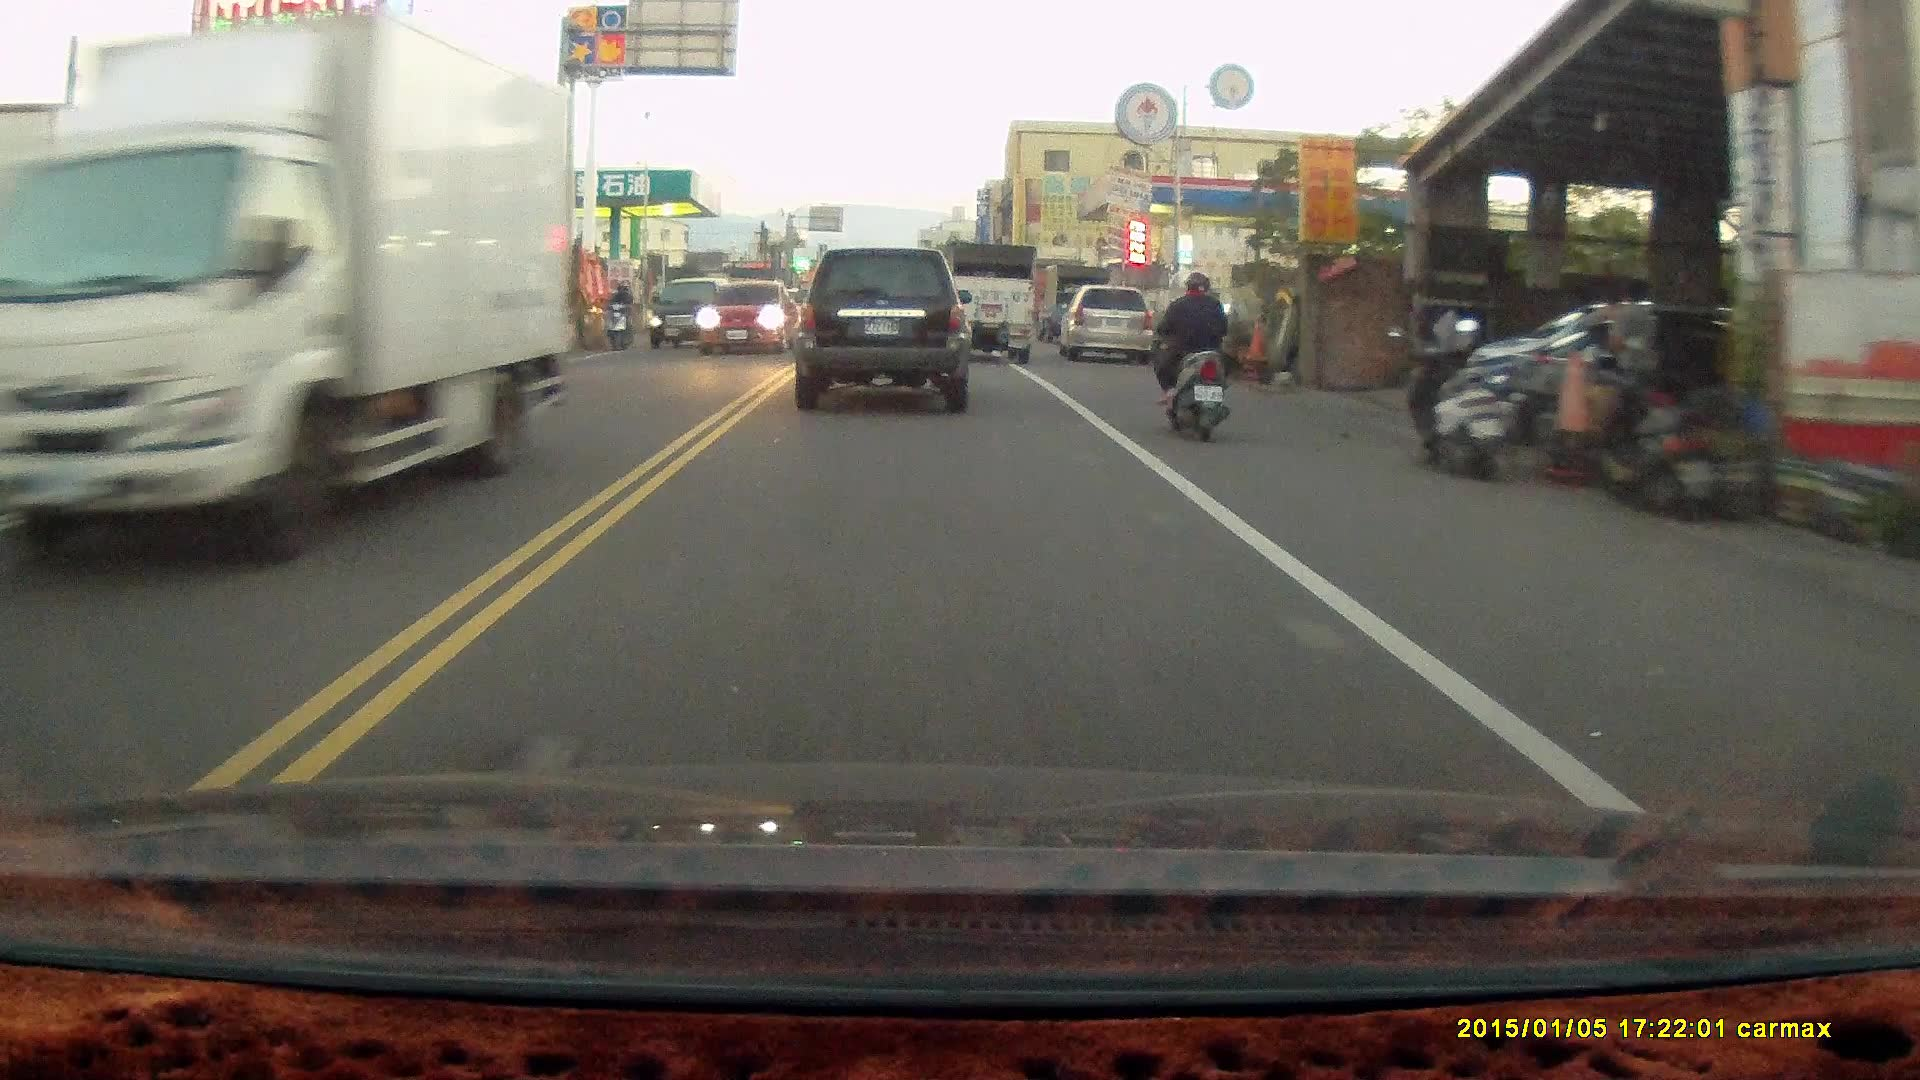pedestrian: (1609, 281, 1661, 427)
rider: (1148, 269, 1238, 444), (602, 278, 637, 348)
vehicle: (1, 42, 573, 569), (789, 244, 973, 414), (945, 238, 1038, 362), (694, 283, 803, 357), (1063, 284, 1151, 366), (648, 276, 740, 350)
